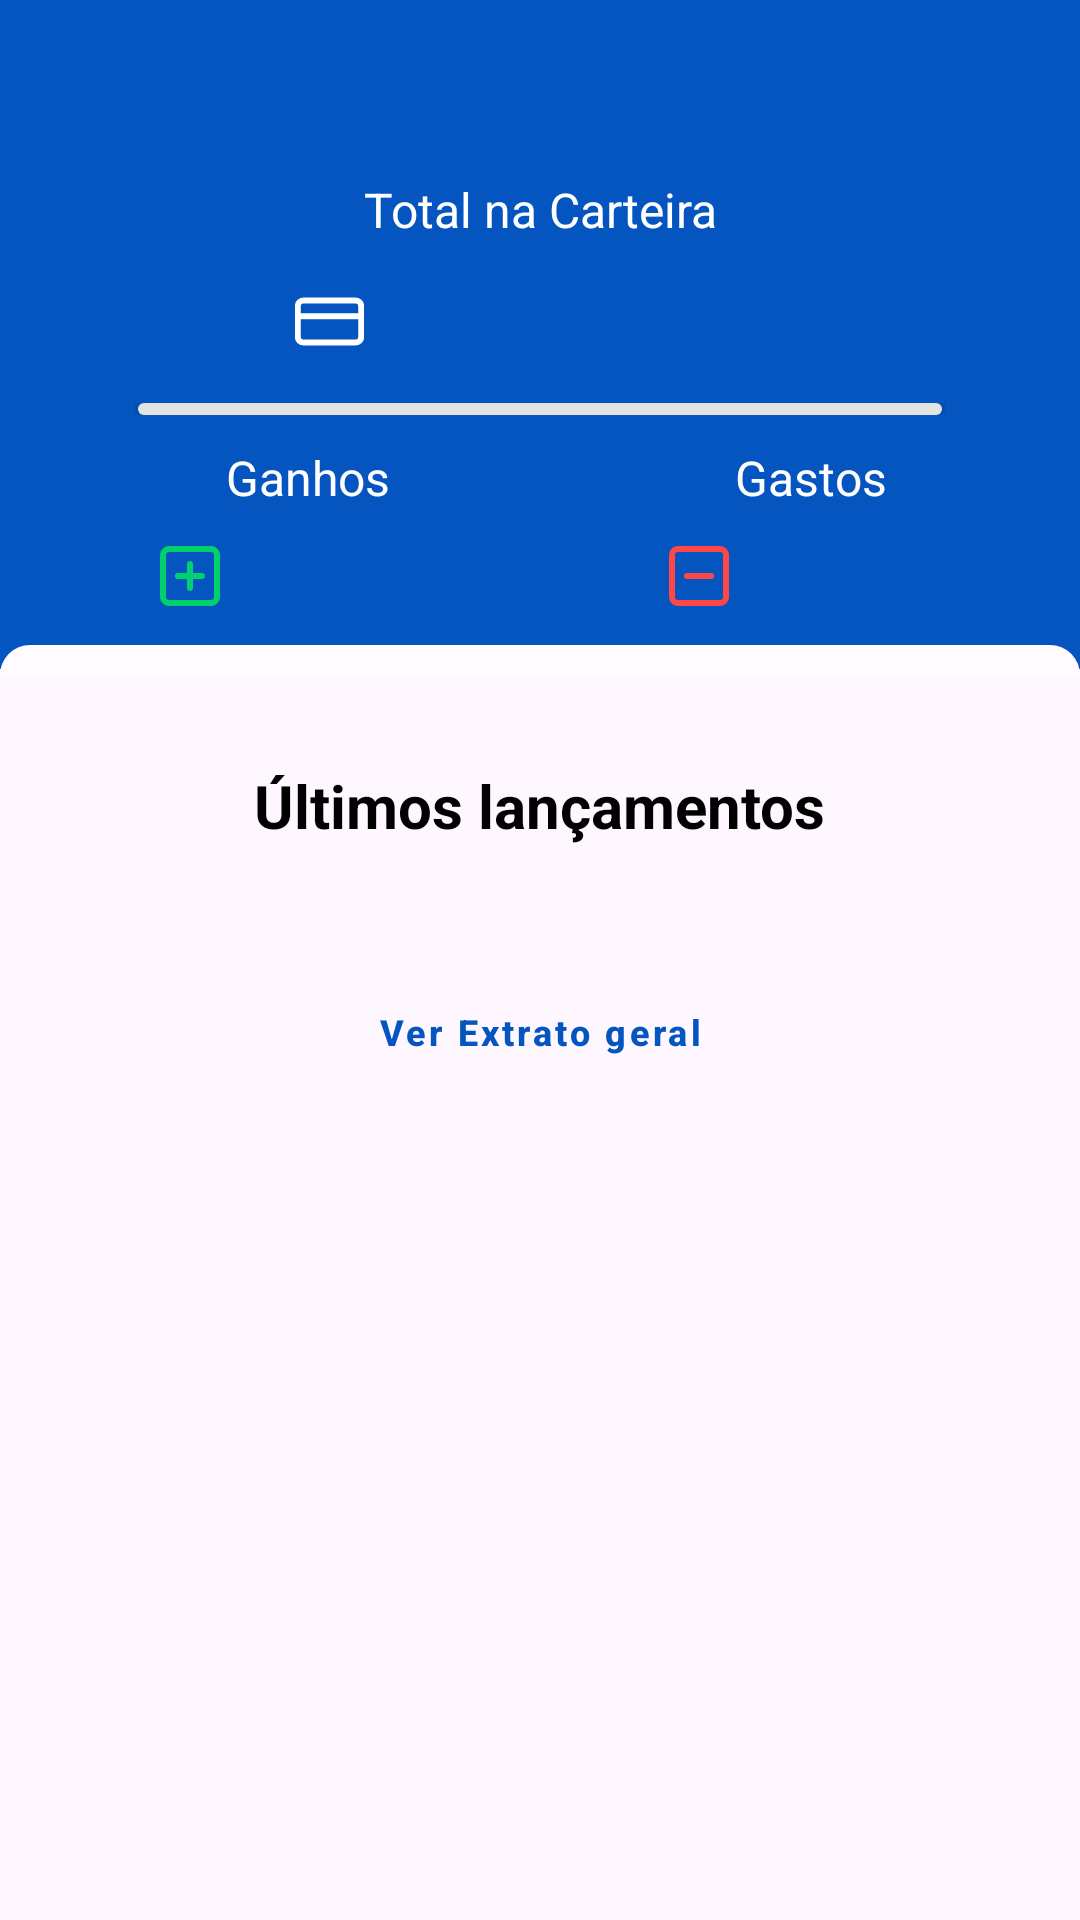

Icon bounding boxes for this 1080 x 1920 phone screenshot, format (x1, y1, x2, y2):
credit card: (295, 297, 364, 346)
minus square: (669, 546, 729, 606)
plus square: (160, 546, 220, 606)
